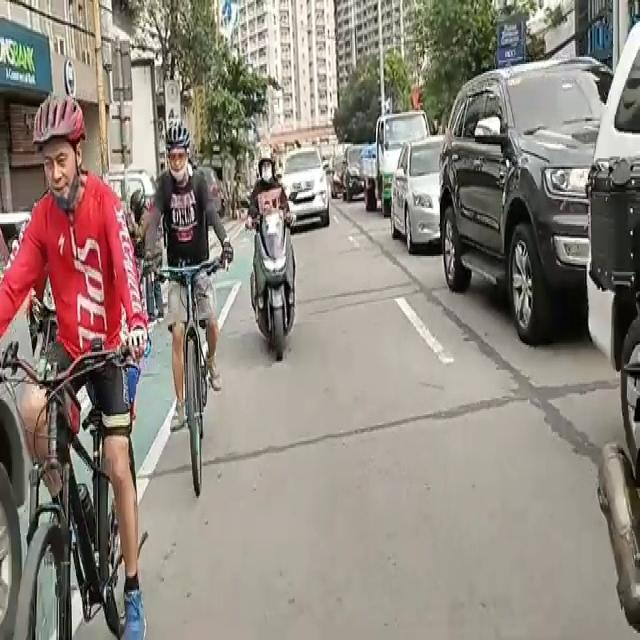car: (449, 91, 603, 351), (396, 142, 454, 254), (282, 141, 334, 227)
motorcycle: (245, 134, 299, 356)
truck: (359, 107, 432, 221)
